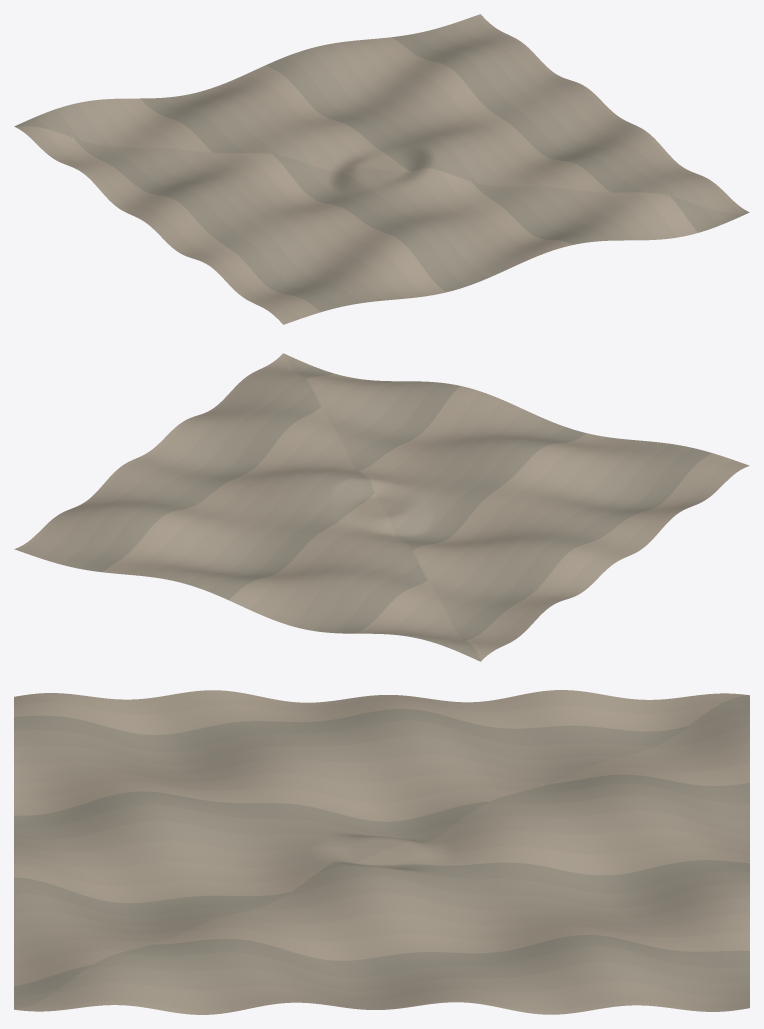
File: PlainsTerrain.fbx
3 views of the same model, one above another, from view 1: azimuth 30°, elevation 25°; view 2: azimuth 150°, elevation 25°; view 3: azimuth 270°, elevation 25° (orthographic). The views are drawn at different scales.
Parts seen in each view (by area): view 1: Rolling plain terrain; view 2: Rolling plain terrain; view 3: Rolling plain terrain.
Part boxes in pixels (x1,y1,x2,y2): Rolling plain terrain: (14,14,749,324); Rolling plain terrain: (14,353,749,661); Rolling plain terrain: (14,690,749,1014).
Bounding box in the file's own units: 1000 × 49.83 × 1000.
